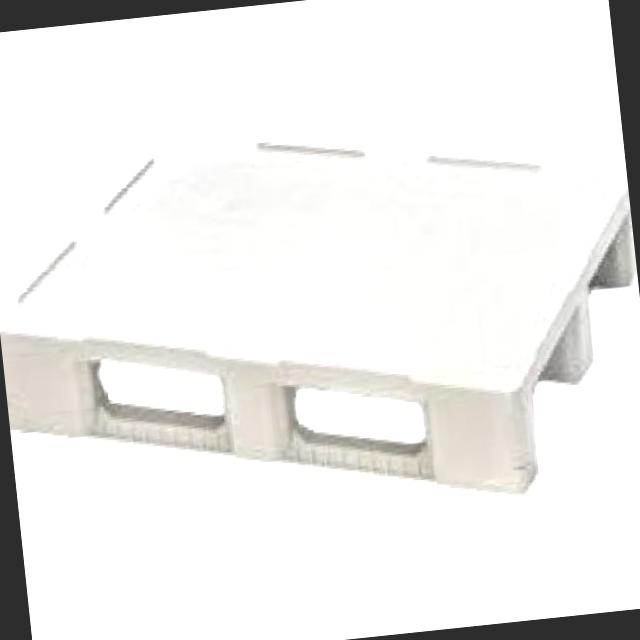pallet: (0, 79, 640, 577)
